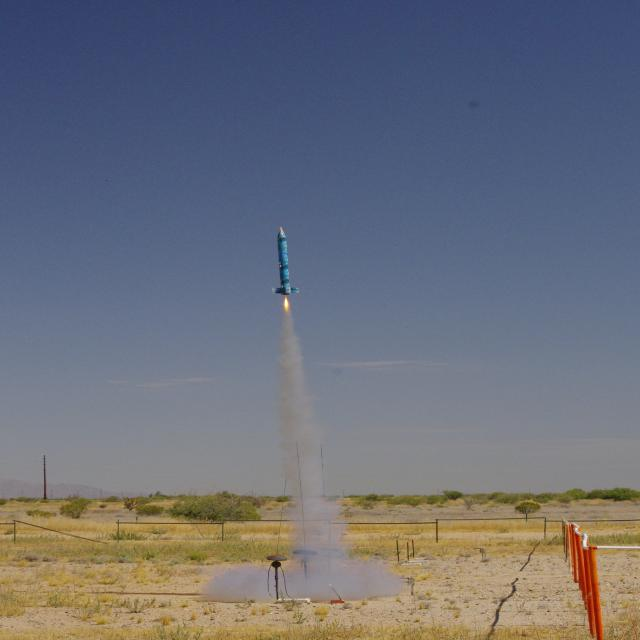Rocket: (272, 226, 300, 296)
